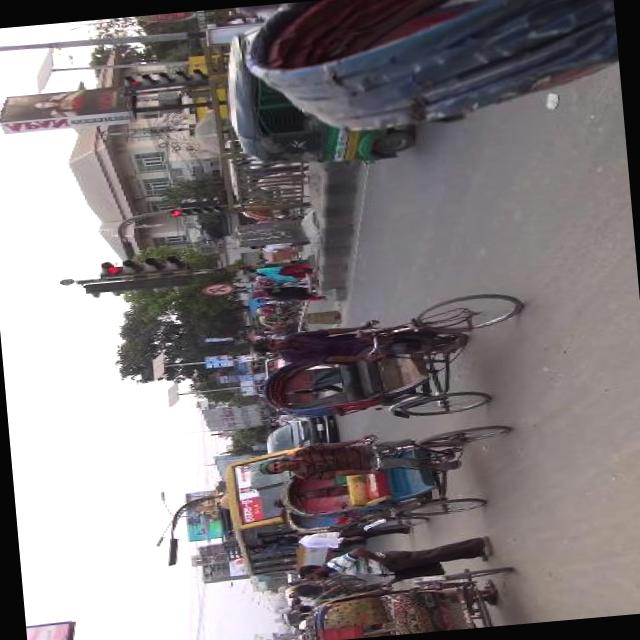bus: (202, 454, 294, 580)
motorcycle: (242, 286, 530, 430), (220, 0, 441, 175), (257, 414, 524, 532), (290, 554, 528, 640), (272, 491, 435, 544), (235, 194, 308, 224), (254, 298, 302, 324)
truck: (251, 409, 340, 454)
